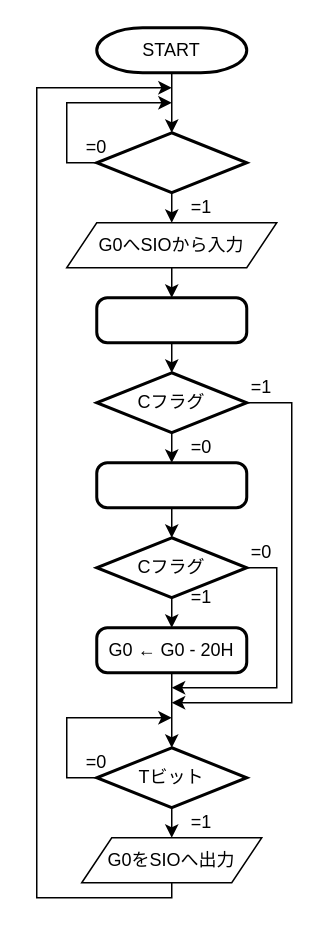
Image size: 330x936. Some labels were removed from this diagram. Here are the shapes that lost their labels. From the top down, the box of each, then its label:
(94, 130, 248, 194): Rビット
(94, 296, 248, 344): G0 - 'a'
(94, 460, 248, 508): G0 - ('z' + 1)
